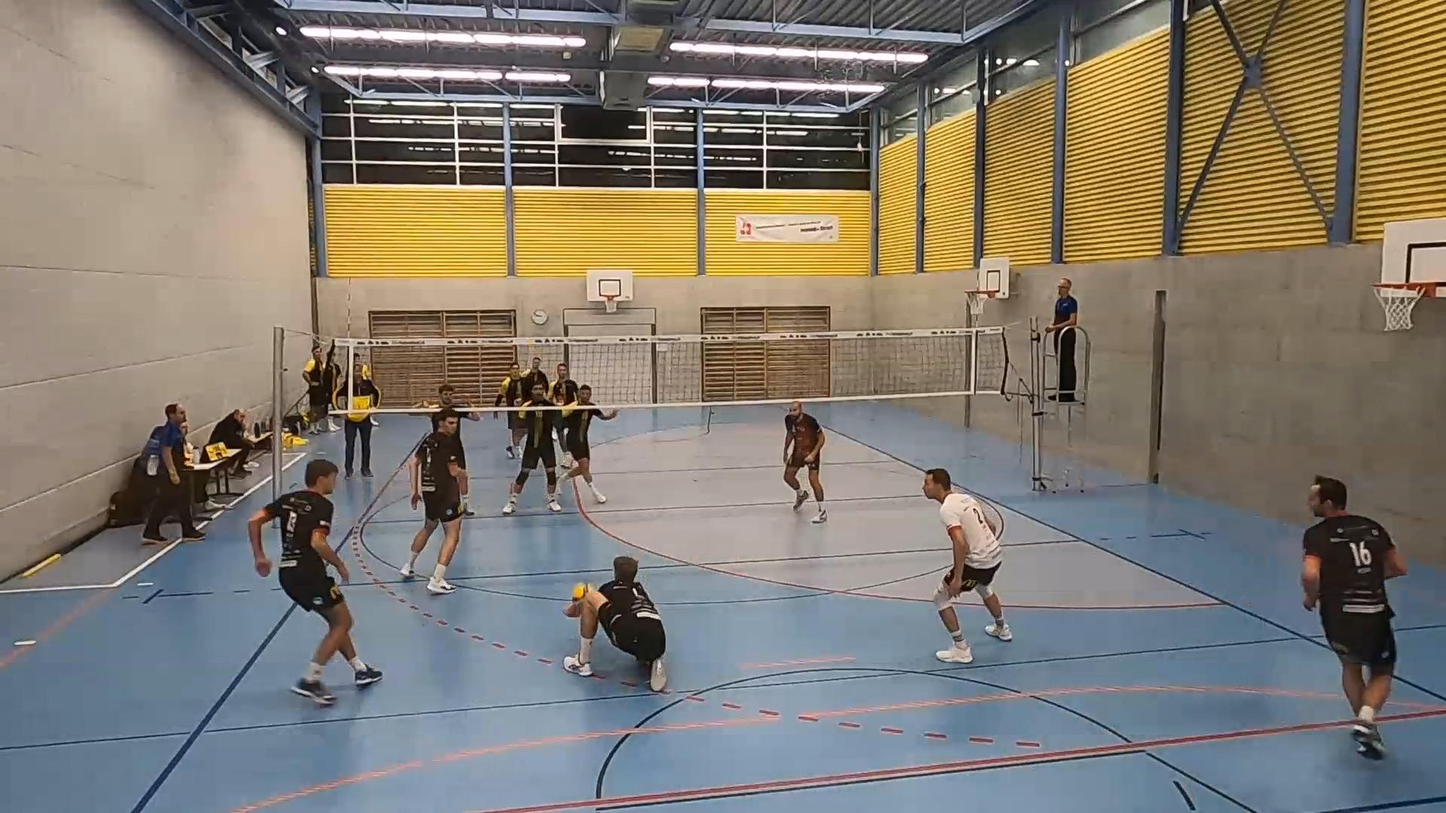Player: (248, 459, 382, 705), (1303, 477, 1407, 759), (923, 468, 1011, 663), (400, 408, 464, 594), (502, 382, 561, 515), (423, 384, 480, 516), (560, 385, 617, 503), (783, 401, 827, 523), (494, 361, 526, 407), (548, 363, 578, 405), (522, 357, 549, 397)
Receive: (562, 549, 668, 693)
ball: (565, 578, 596, 607)
